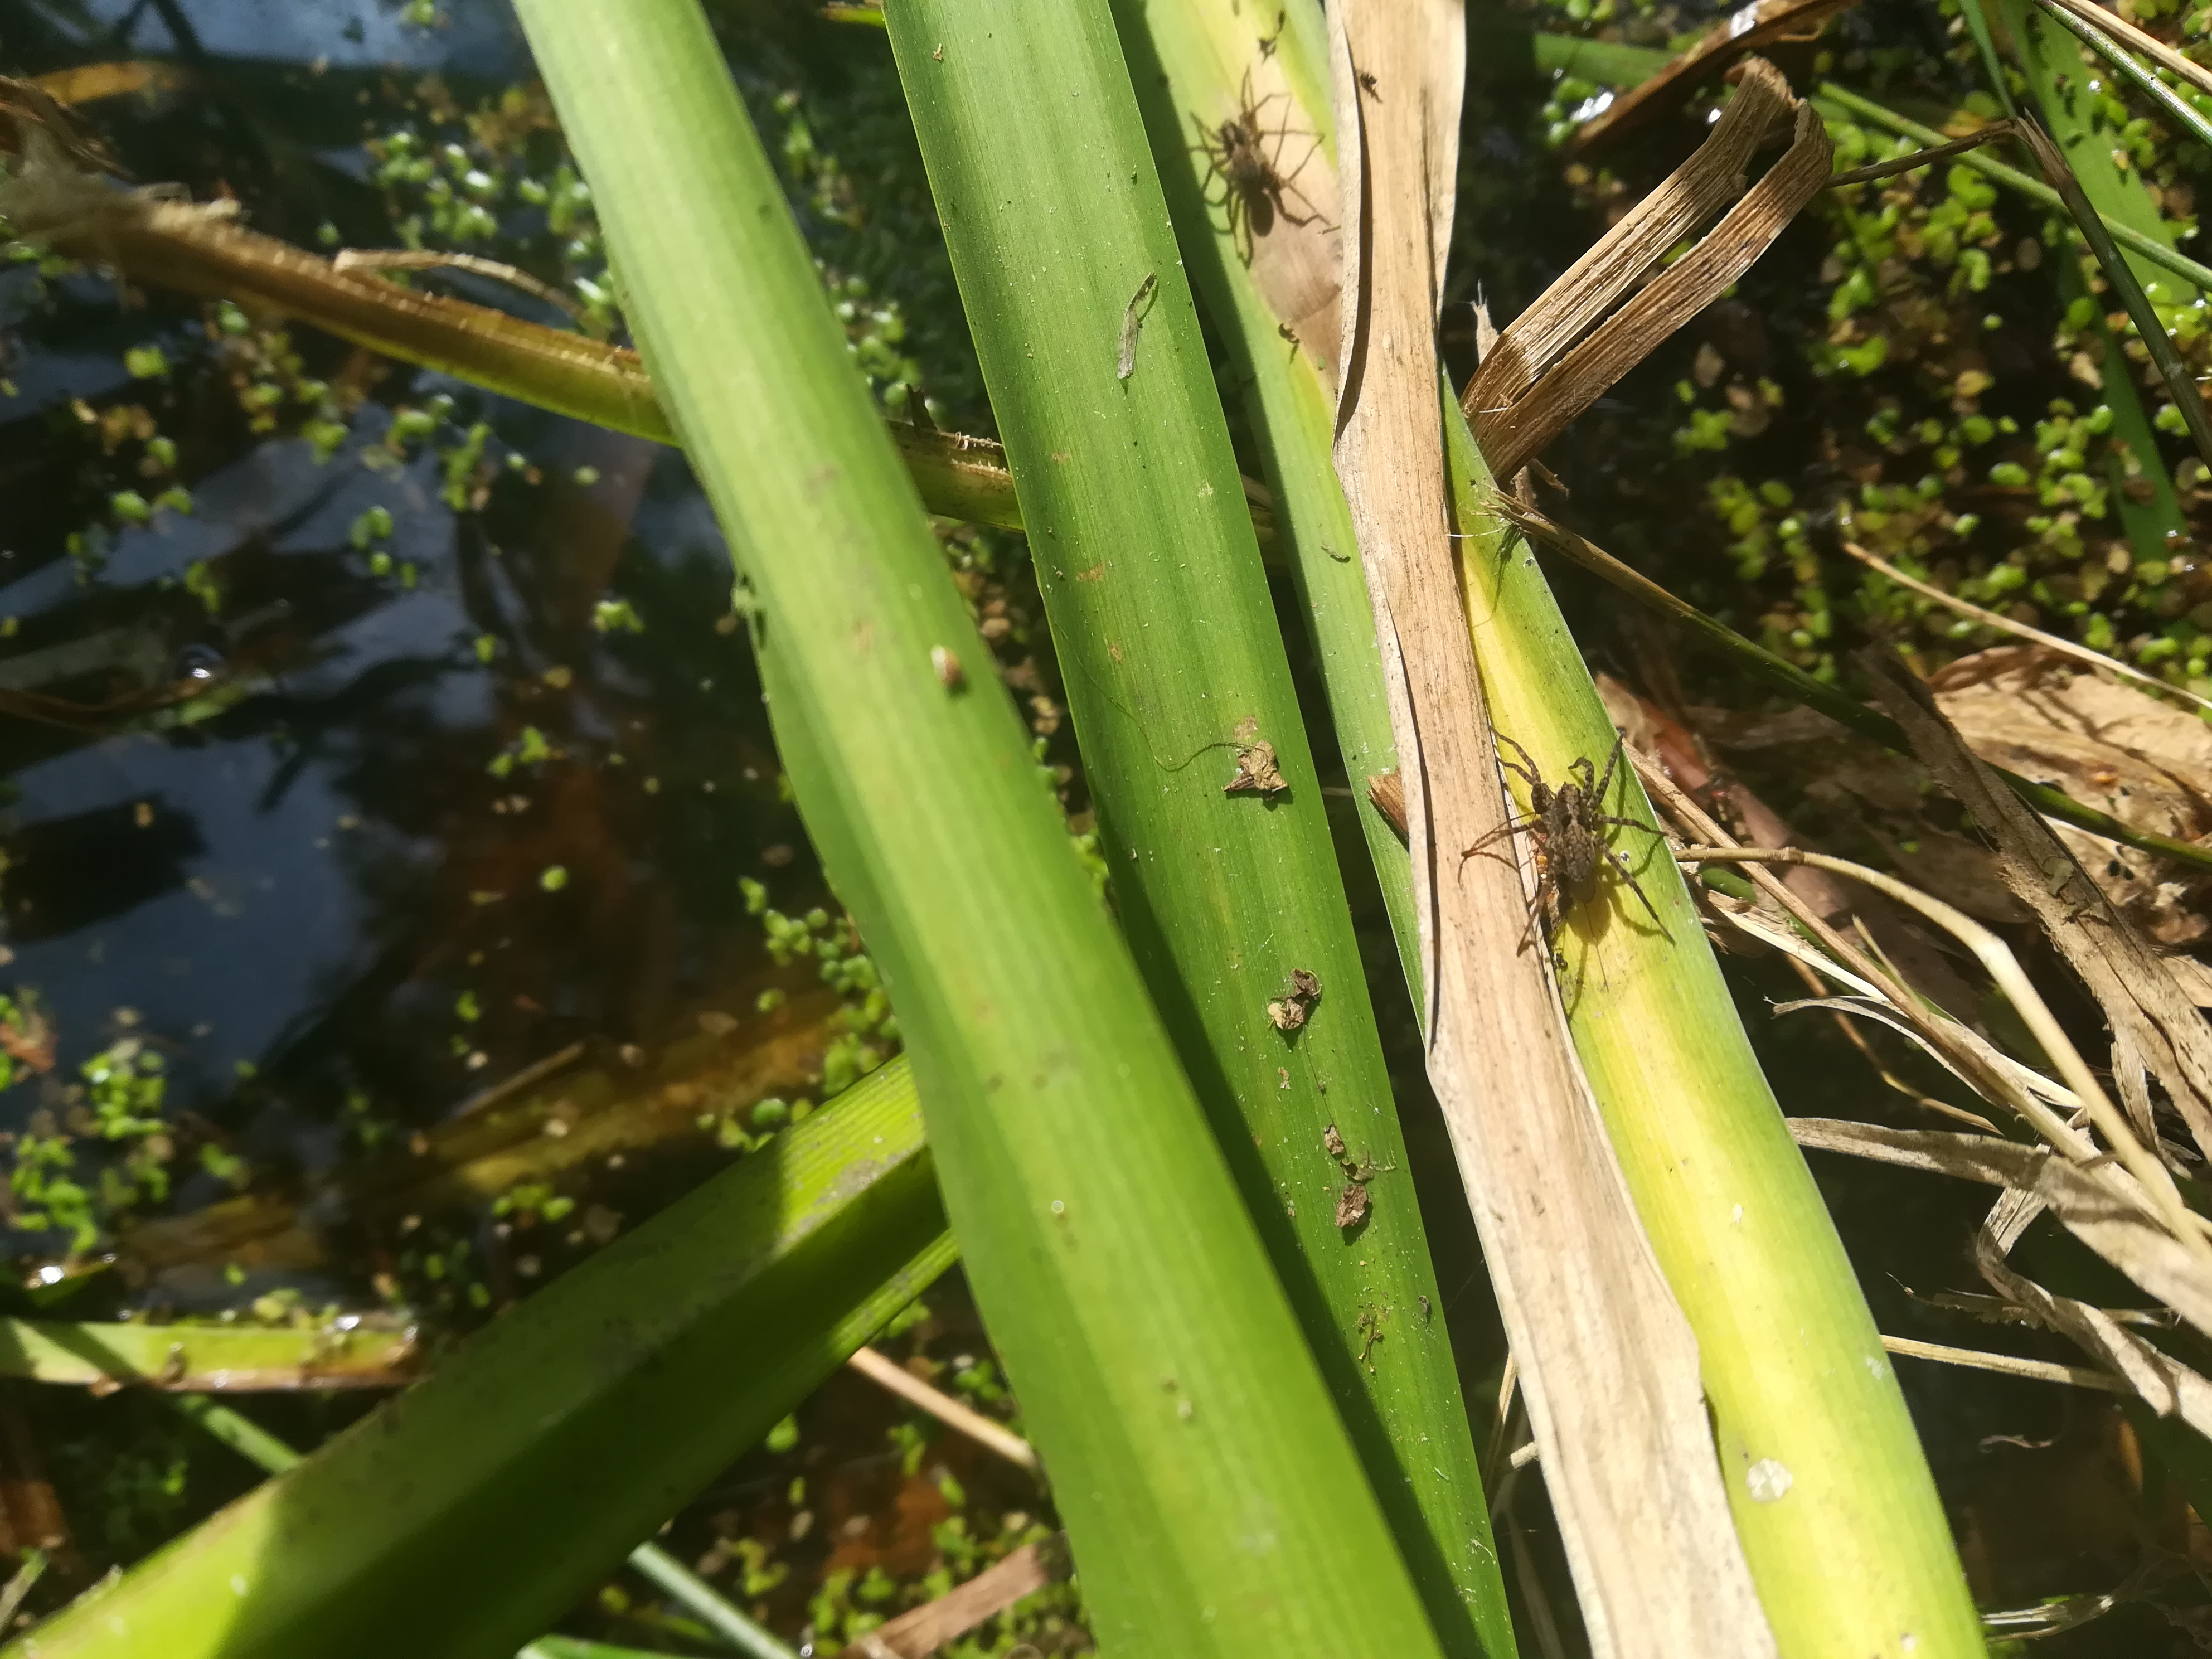spider: (1442, 699, 1705, 988), (1155, 63, 1332, 279)
